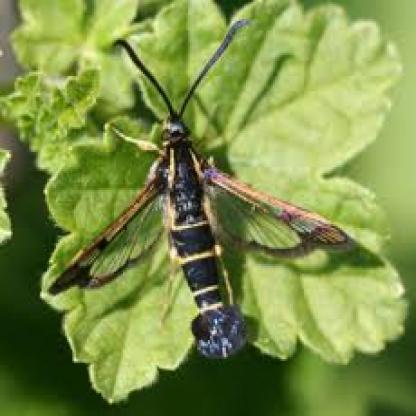sawfly: (54, 23, 351, 360)
